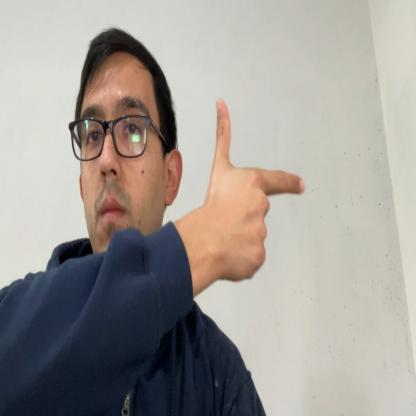G: (210, 96, 304, 282)
